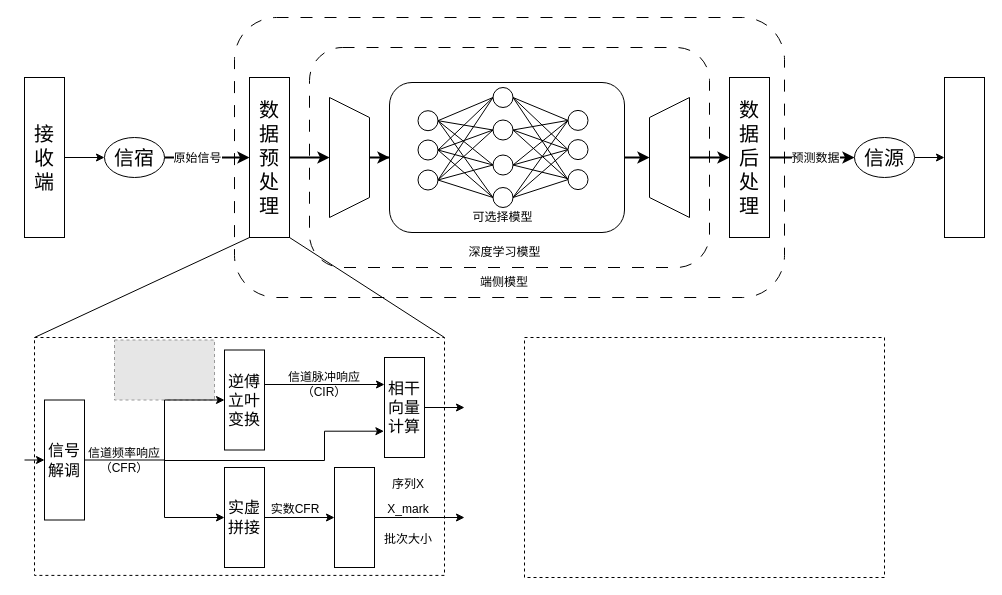
The diagram is 1002 pixels wide and 595 high, and some of its shapes have lost their labels. Grey dashed boxes stand in for pictures. Here are the shapes that lost their labels. From the top down, the centre of each, then its label:
At pixel 349 157: "编码器".
At pixel 669 157: "解码器".
At pixel 964 157: "发送端".
At pixel 354 517: "滑动窗口划分批次".
